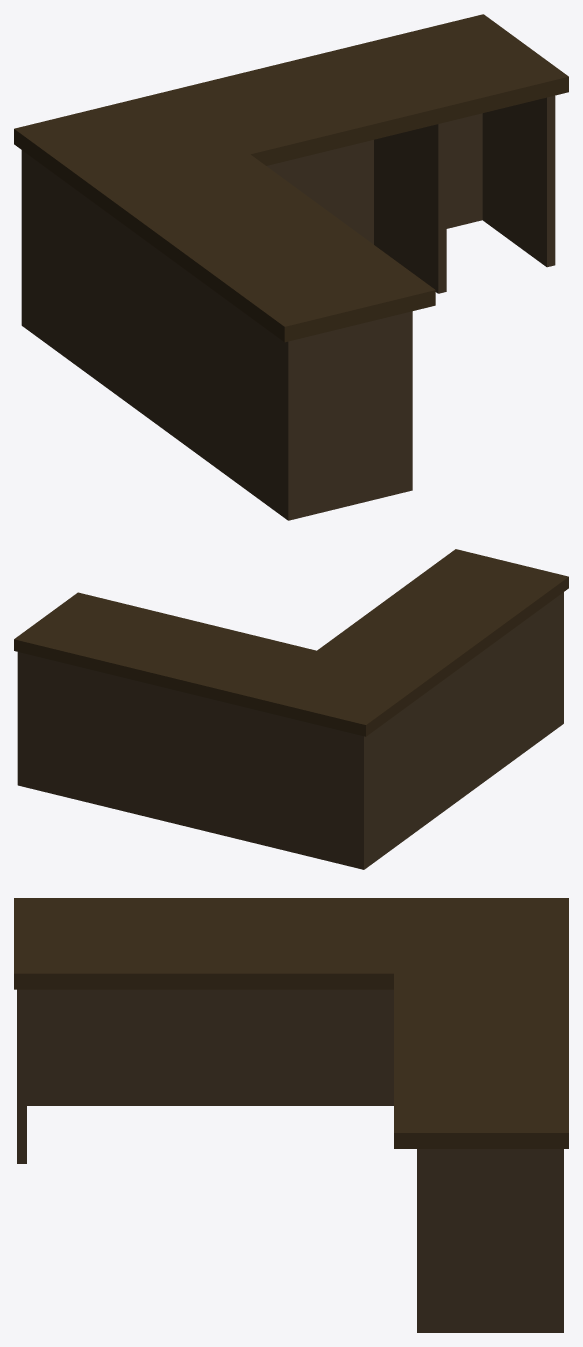
The model's file is Office_Desk_4_Alt.fbx.
3 renders of one model, top to bottom at view 1: azimuth 30°, elevation 25°; view 2: azimuth 150°, elevation 25°; view 3: azimuth 270°, elevation 25°, orthographic. The views are drawn at different scales.
Visible parts, largest first — view 1: Office_Desk_4_Alt; view 2: Office_Desk_4_Alt; view 3: Office_Desk_4_Alt.
Part boxes in pixels (<box>): Office_Desk_4_Alt: <box>14,14,568,520</box>; Office_Desk_4_Alt: <box>14,549,568,869</box>; Office_Desk_4_Alt: <box>14,898,568,1332</box>.
Size of the model in its own units: 238 by 95.09 by 238.
